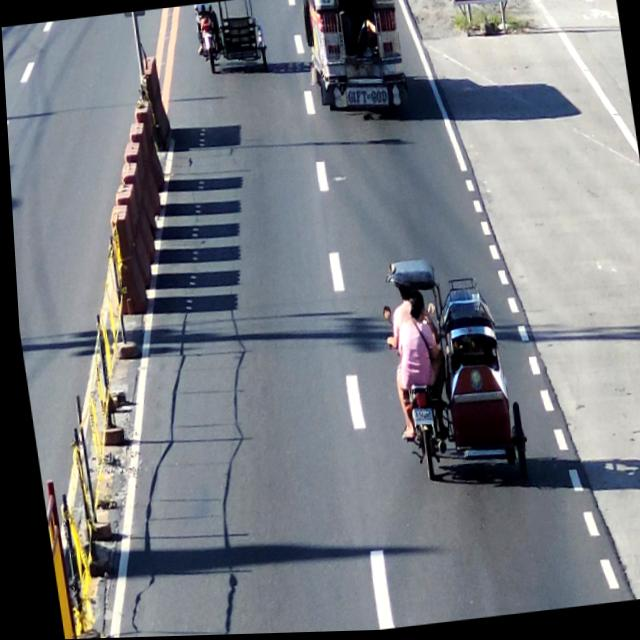Jeep: (295, 0, 414, 123)
License-Plate: (403, 406, 432, 435)
Tricycle: (367, 250, 532, 496), (193, 0, 270, 79)
